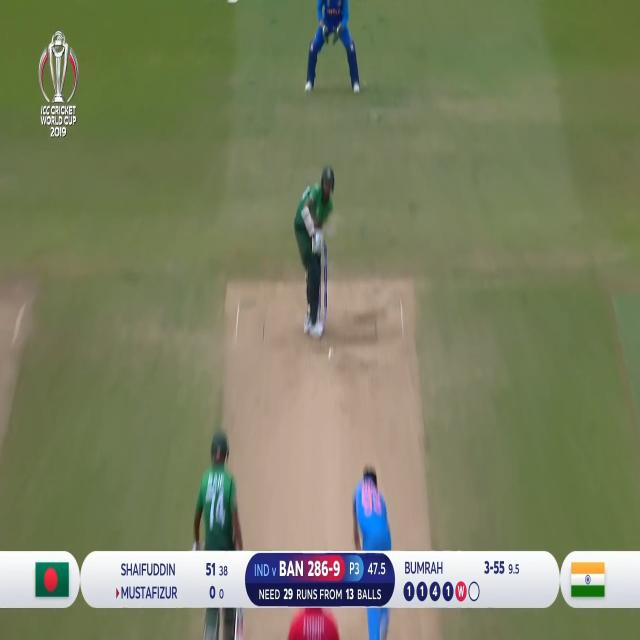Cricket ball: (329, 348, 334, 362)
